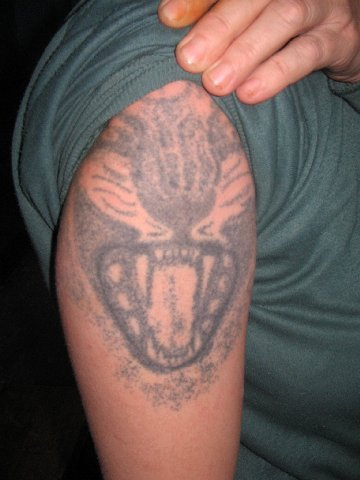tatu5_tigr: (78, 92, 260, 372)
